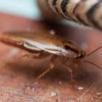cockroach: (1, 32, 88, 63)
